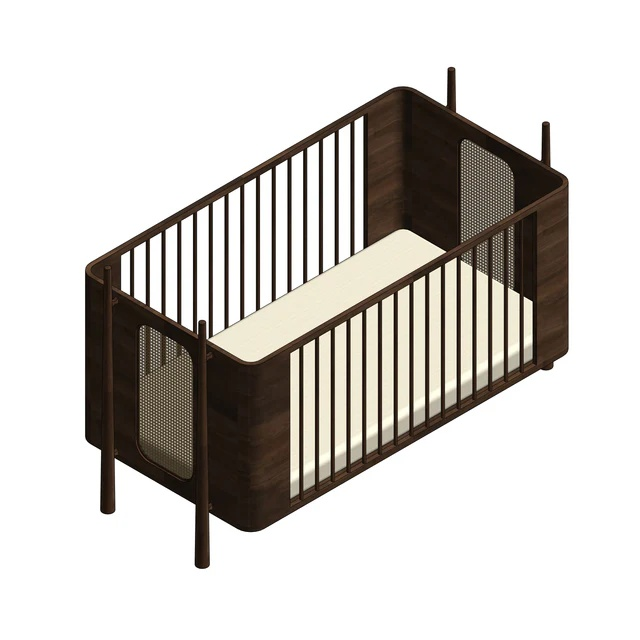crib: (86, 69, 567, 566)
